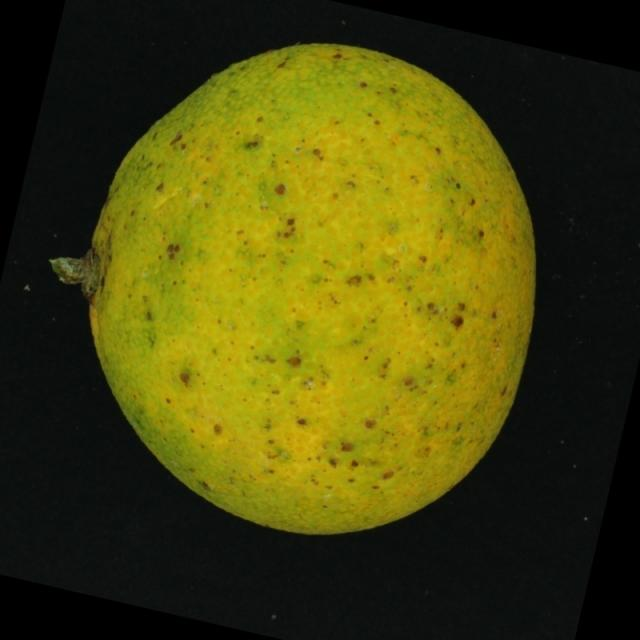grenning: (34, 24, 557, 557)
